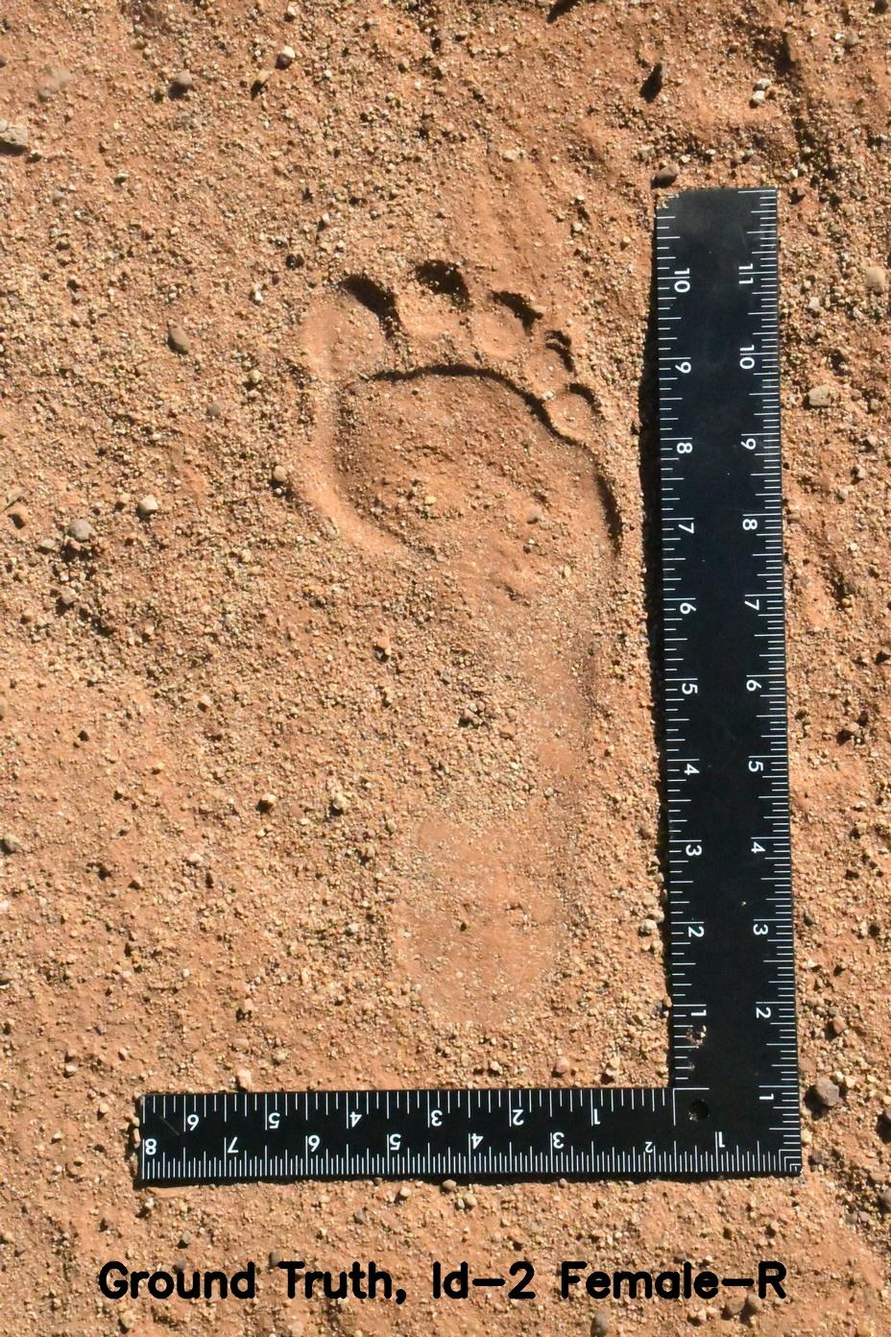human_foot_print: (269, 218, 640, 1098)
